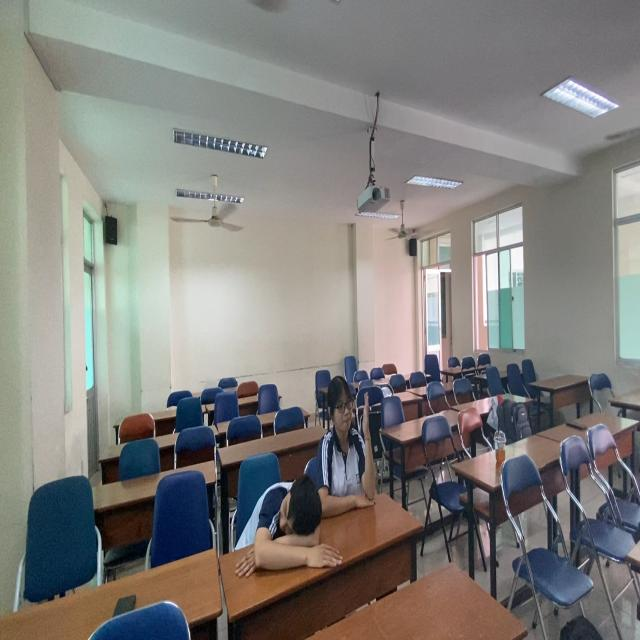raise_hand: (320, 375, 380, 515)
sleep: (244, 476, 323, 573)
